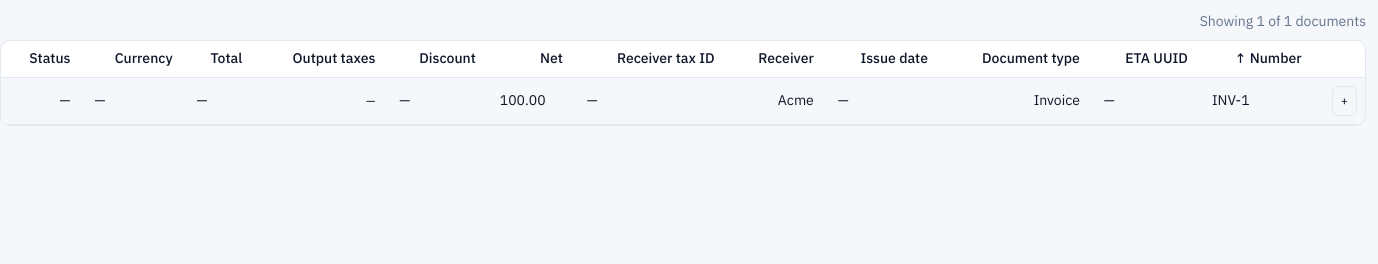
Test: ReportDetailDocumentsTable expand control › names the expand control and toggles line items without changing row identity
This screenshot has width=1378, height=264.
Check: the text "Widget" is not shown
Click the button "+" at (1344, 101), box [1332,86,1357,116]
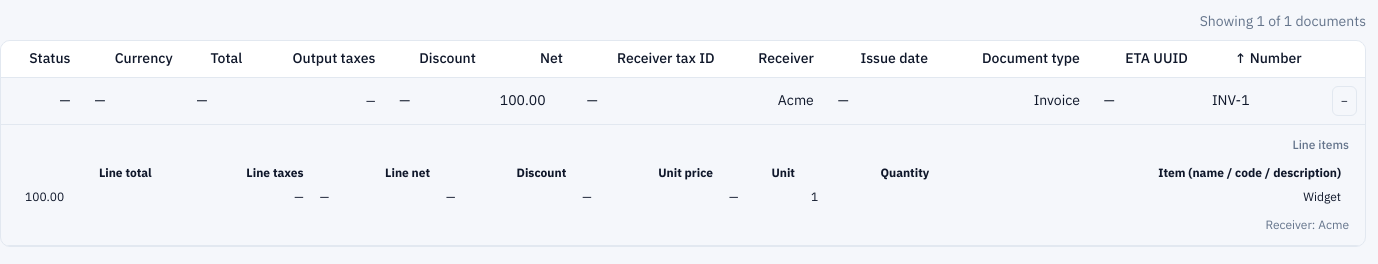
Check: the text "Widget" is shown, box [937,185,1349,209]
